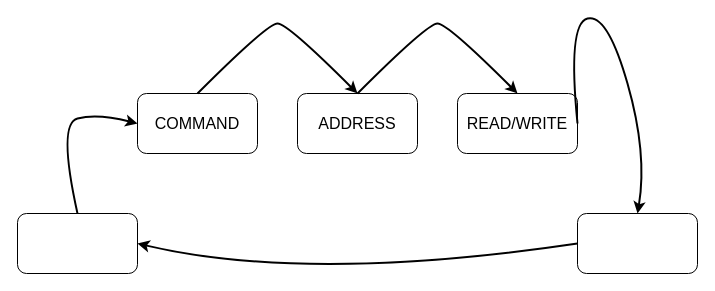
Some shapes in this 715 by 291 pixel diagram are drawn without their labels. The shapes that lost their labels are listed below. From the top down, each one's centre as x and y in pixels, then its label:
[77,243]: IDLE
[637,243]: DONE
